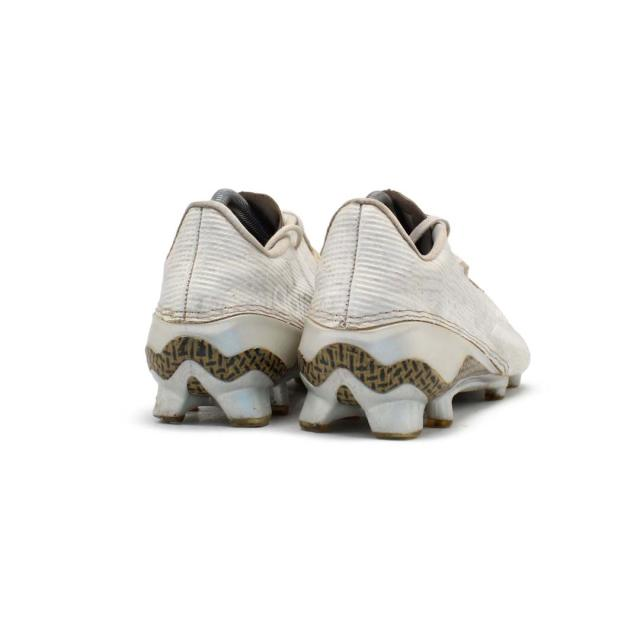heel: (307, 204, 436, 329), (156, 207, 282, 324)
midsole: (296, 322, 505, 434), (144, 309, 304, 425)
